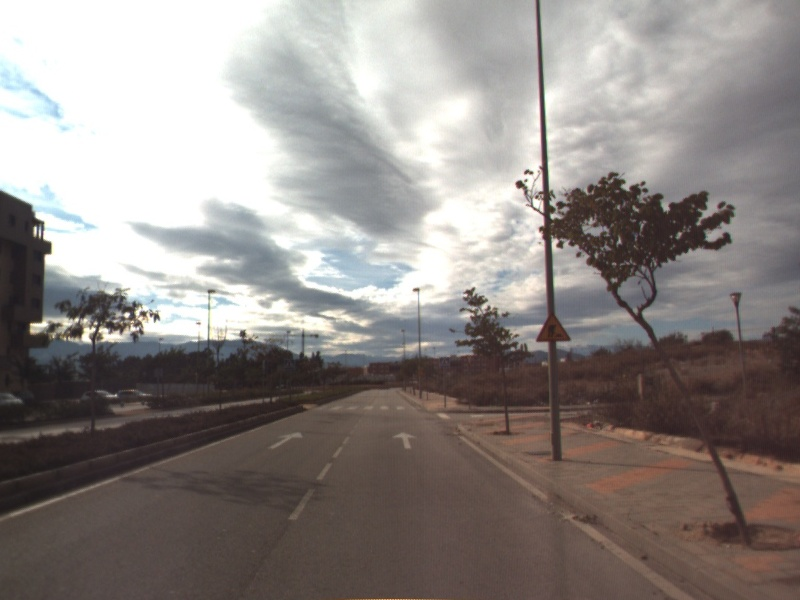STRAIGHT: (265, 429, 305, 451), (390, 429, 419, 451)
